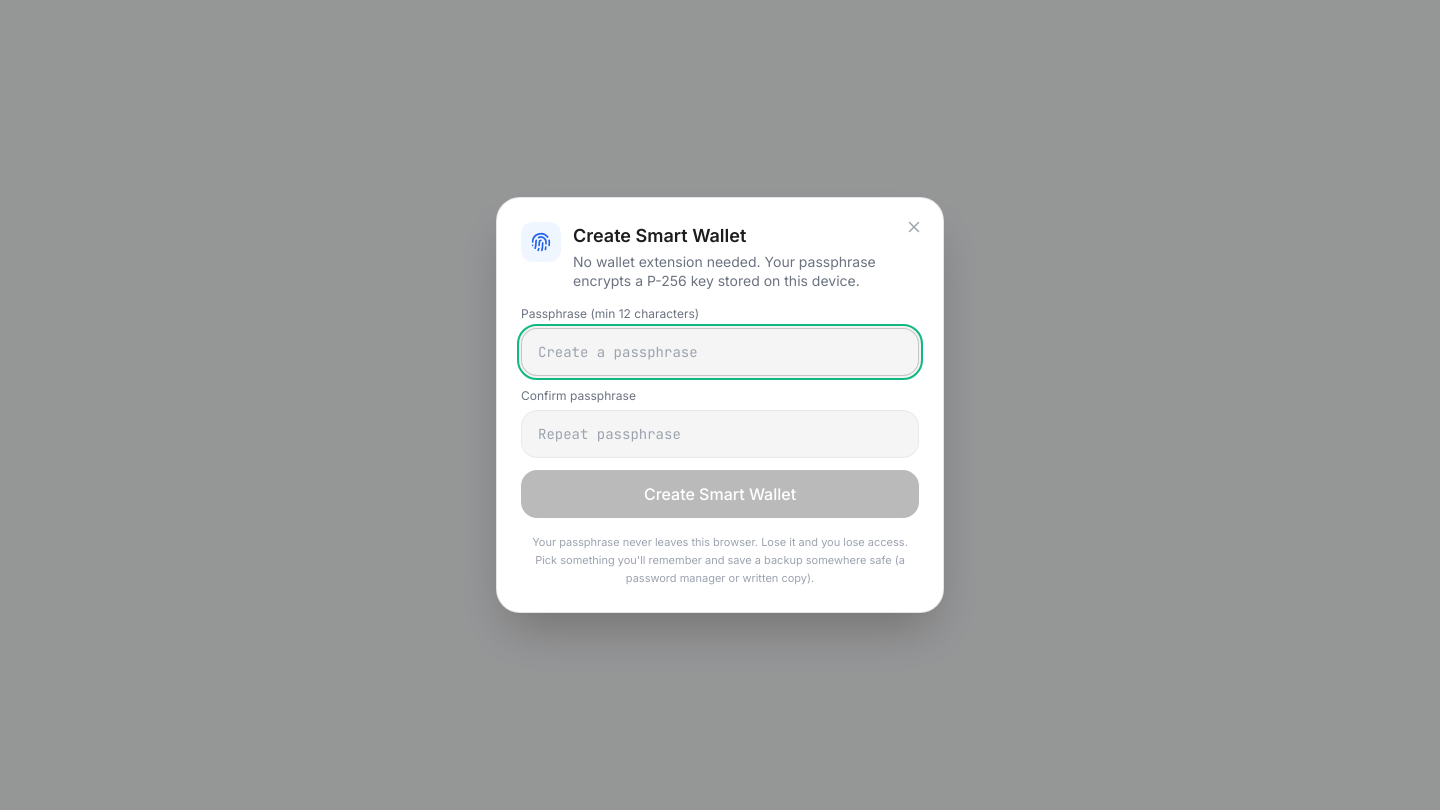
it: PasskeyCreationModal — submit error paths (§15.x) › createAccount returning null -> 'Account creation failed' error displayed
Type "longenough12" into the password field with test id "passkey-passphrase-new" at (720, 352), box x1=521 y1=328 x2=919 y2=376
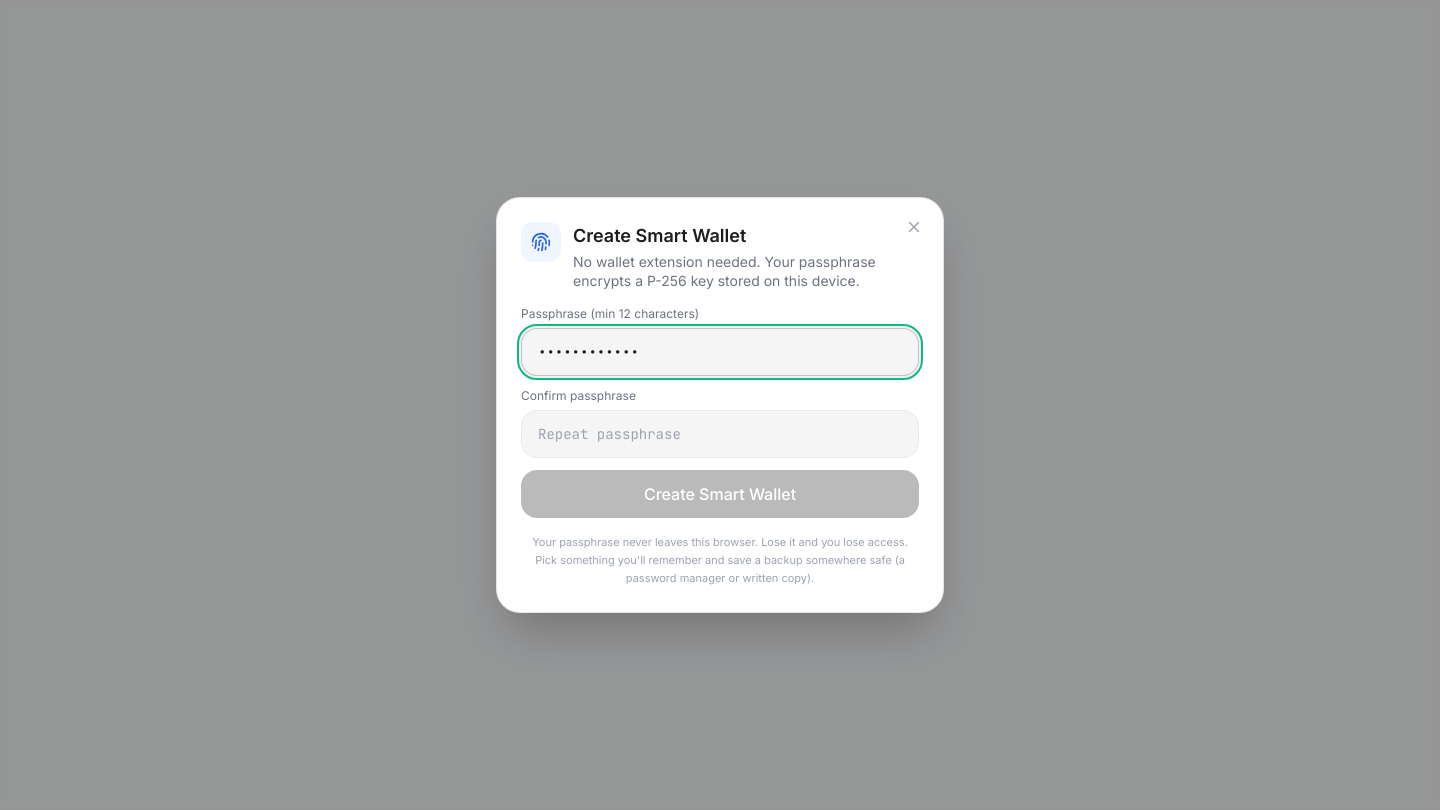
Type "longenough12" into the password field with test id "passkey-passphrase-confirm" at (720, 434), box x1=521 y1=410 x2=919 y2=458
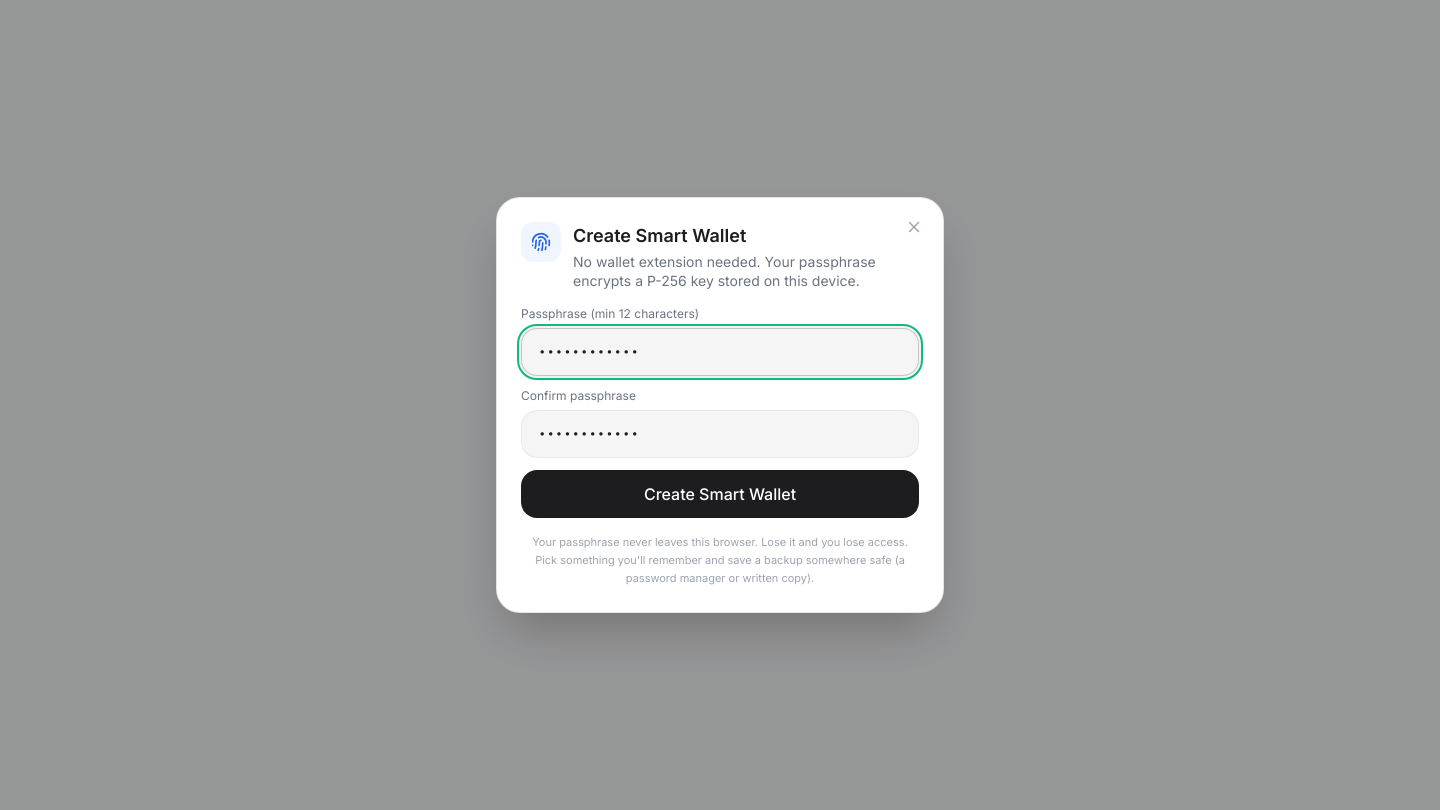
Click the button with test id "passkey-create-submit" at (720, 494), box x1=521 y1=470 x2=919 y2=518
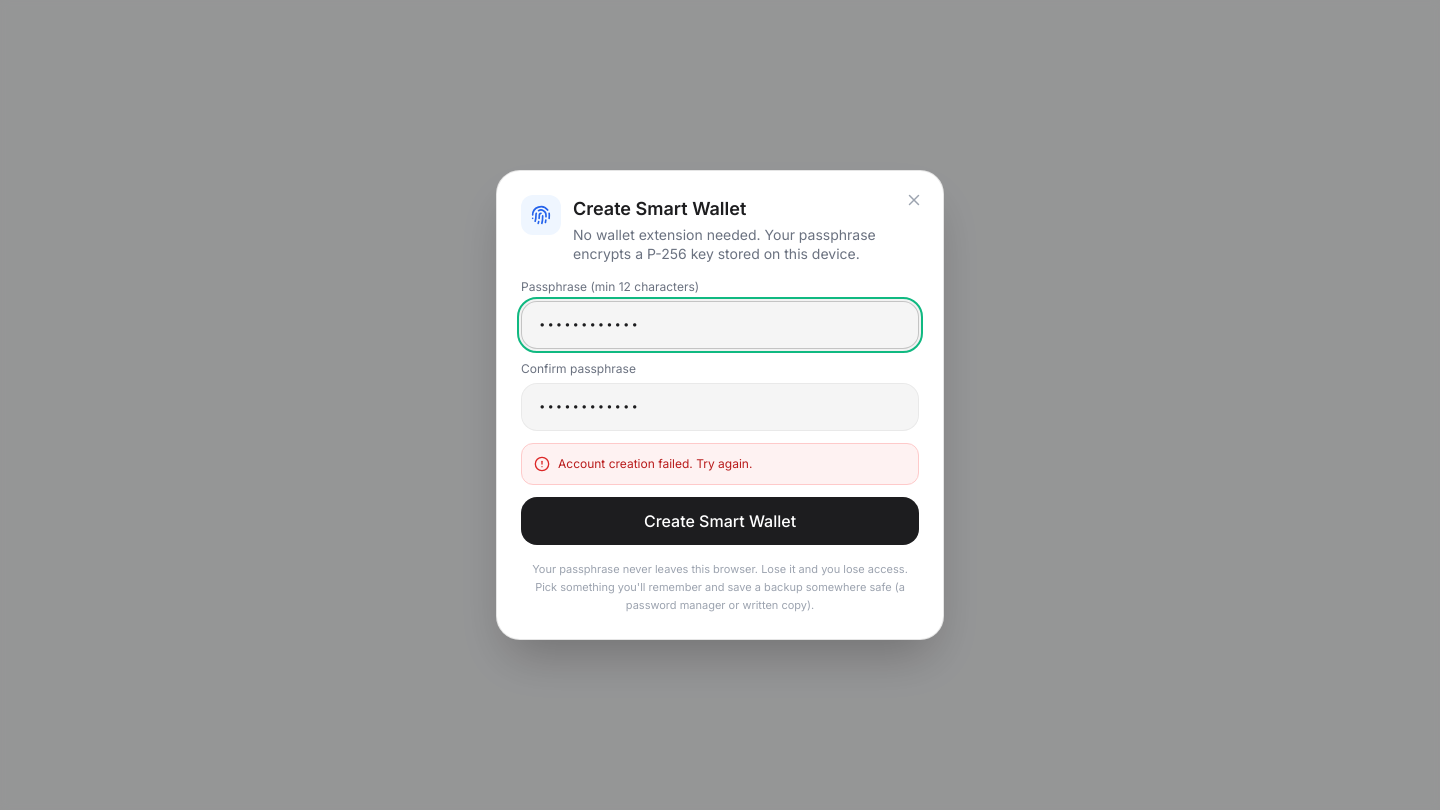
Expected: the message "Account creation failed. Try again." is shown, x1=521 y1=443 x2=919 y2=485
Expected: the message shows "Account creation failed", x1=558 y1=456 x2=752 y2=471
